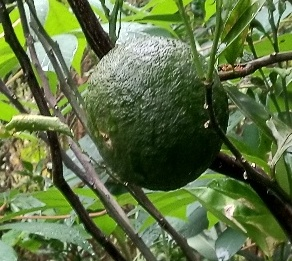Cam: (80, 32, 234, 194)
